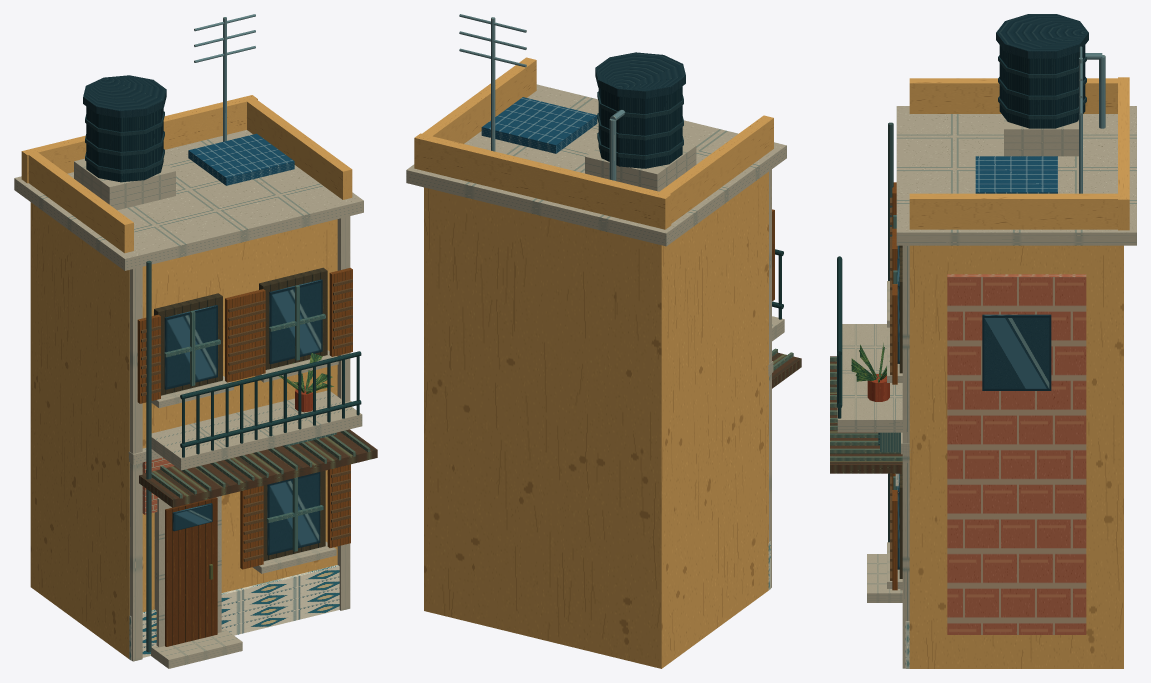
Rendered from townhouse-ochre.glb.
3 views of the same model, side by side, from view 1: azimuth 30°, elevation 25°; view 2: azimuth 150°, elevation 25°; view 3: azimuth 270°, elevation 25° (orthographic). The views are drawn at different scales.
Visible parts, largest first — view 1: townhouse-ochre; view 2: townhouse-ochre; view 3: townhouse-ochre.
Boxes of the visible parts, <box> form: townhouse-ochre: <box>14,14,377,668</box>; townhouse-ochre: <box>406,14,801,668</box>; townhouse-ochre: <box>830,14,1136,668</box>.
Size of the model in its own units: 2.52 by 5.45 by 2.58.
Materials: 1 (1 with a texture image).
